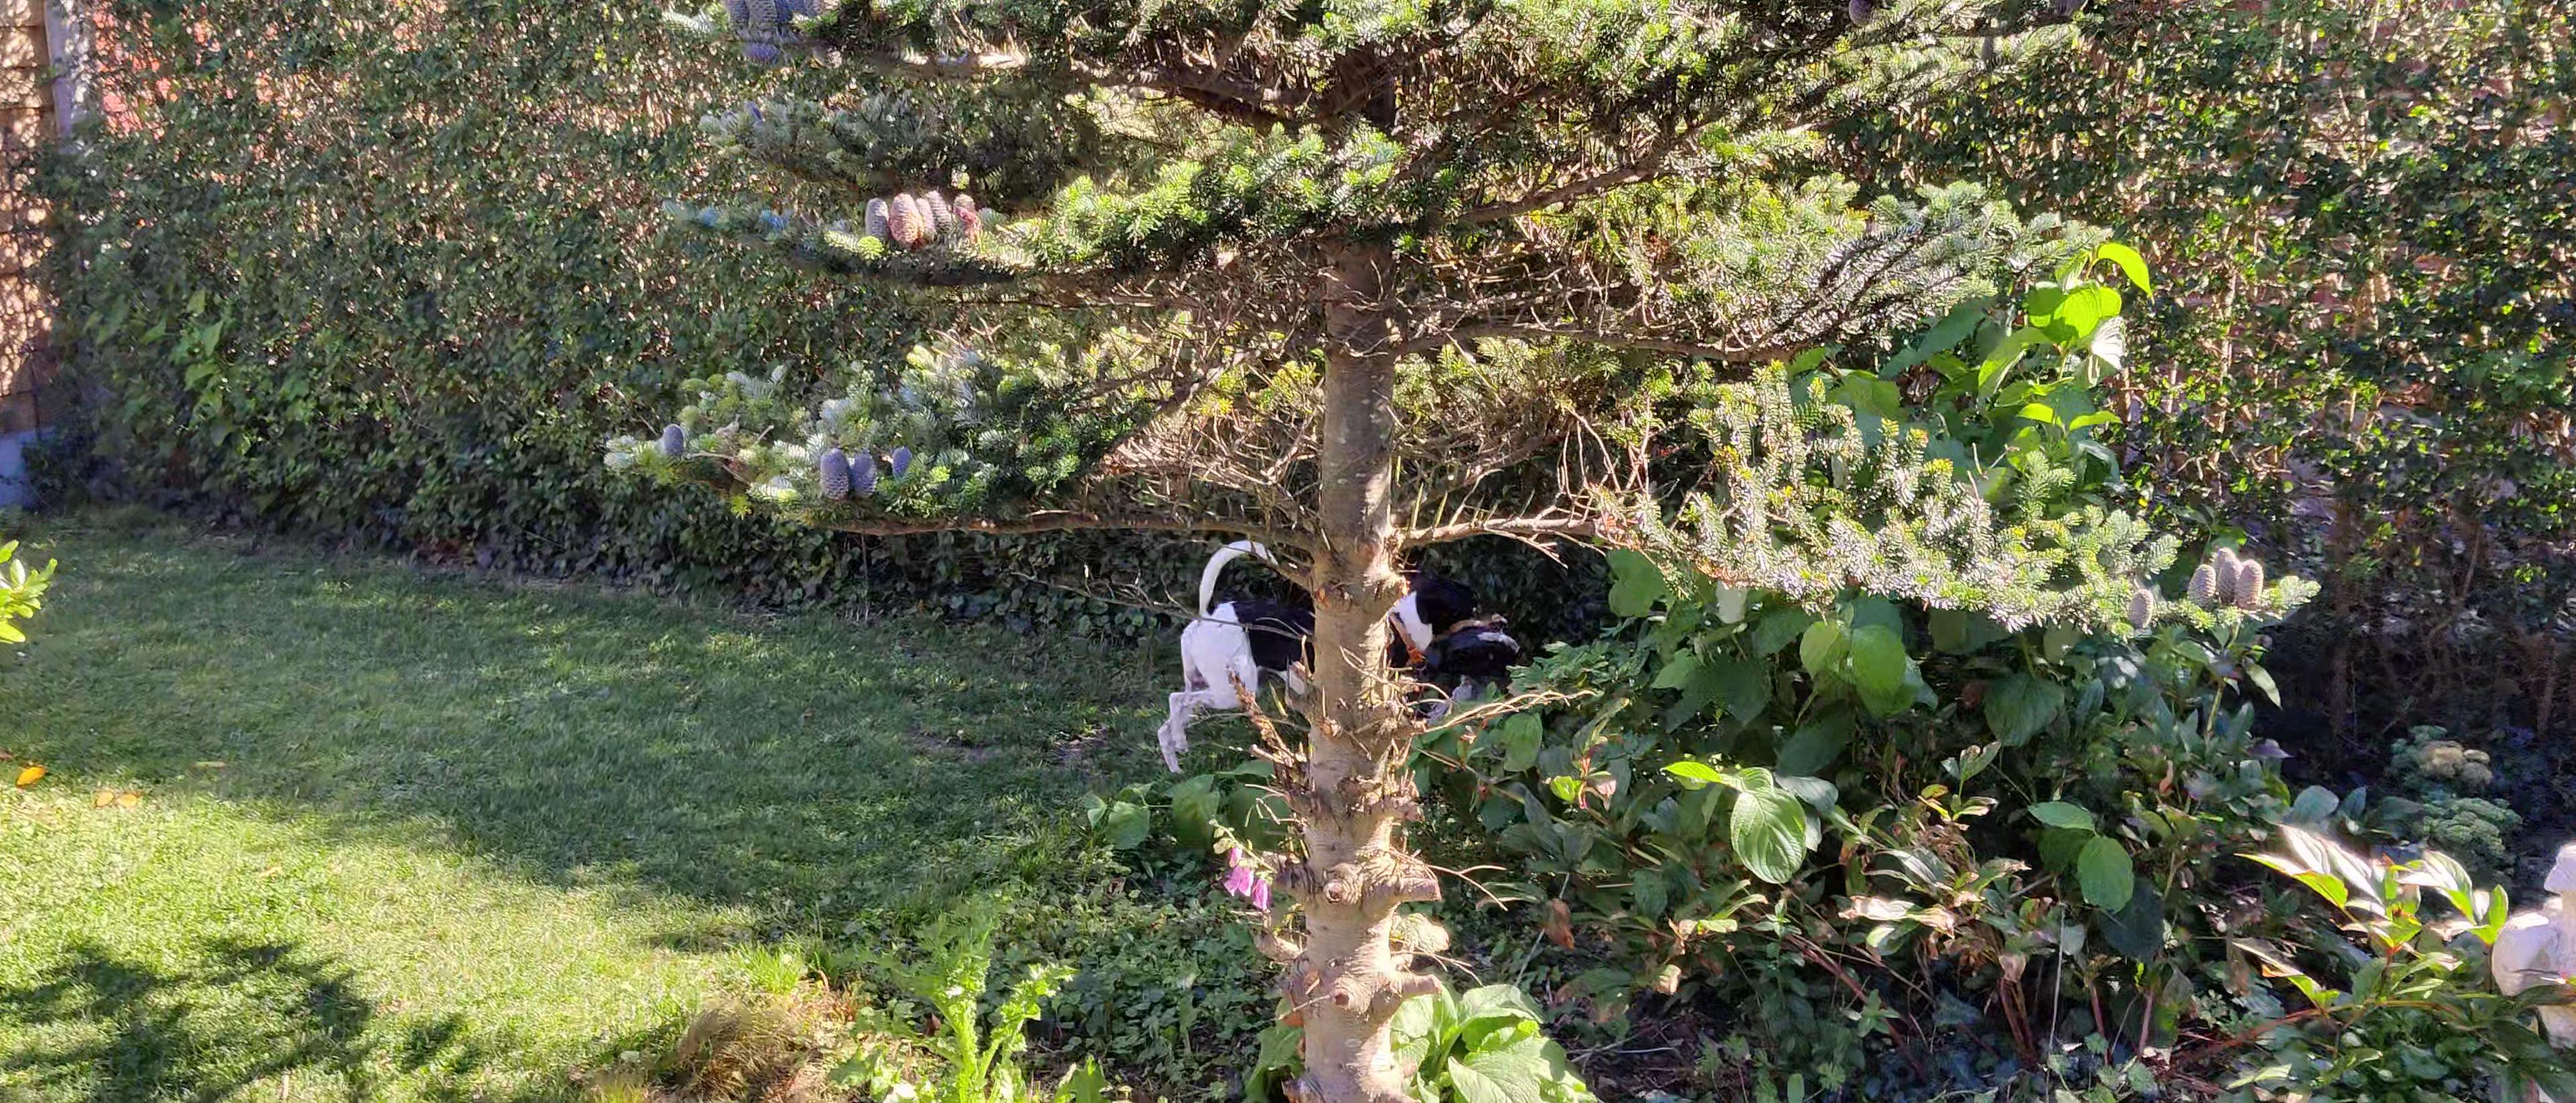Dog: (1155, 541, 1510, 774)
